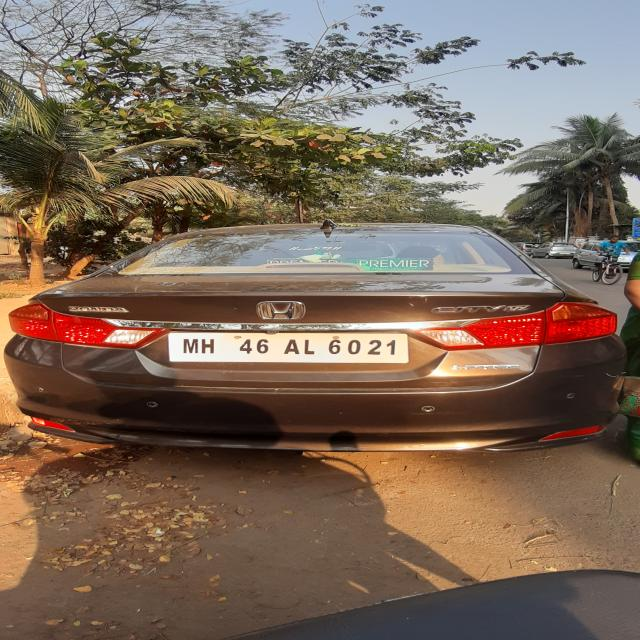Number-Plate: (167, 333, 406, 363)
